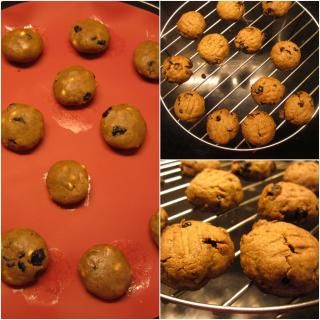Cookie: (238, 218, 320, 298), (158, 220, 236, 292), (77, 246, 132, 302), (0, 226, 50, 286), (258, 180, 320, 226), (185, 168, 244, 212), (0, 101, 43, 153), (100, 103, 146, 151), (45, 160, 89, 207), (0, 27, 44, 64), (68, 18, 110, 55), (240, 109, 277, 146), (205, 108, 237, 146), (282, 161, 320, 192), (280, 90, 314, 124), (195, 33, 231, 64), (250, 76, 286, 106), (133, 40, 159, 80), (174, 90, 206, 122), (270, 40, 300, 71), (176, 10, 207, 39), (163, 54, 195, 82), (233, 26, 266, 53), (232, 160, 274, 179), (180, 159, 220, 177), (215, 0, 244, 22), (261, 0, 290, 18), (150, 212, 160, 244)
